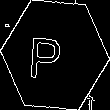P_N: (37, 28, 73, 82)
